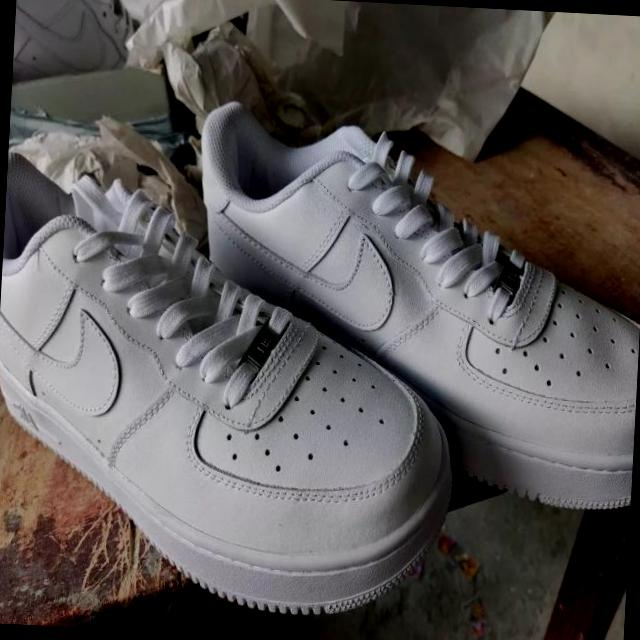nike_fake_airforce: (0, 152, 467, 624), (178, 99, 640, 514)
